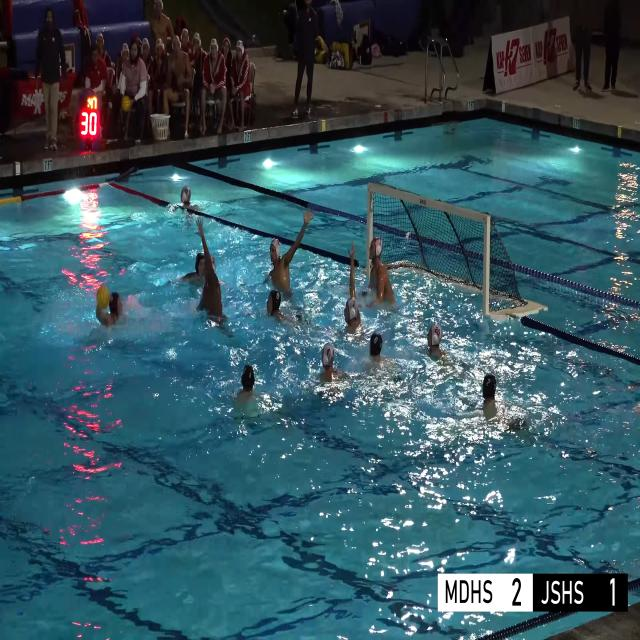ball: (96, 285, 110, 308), (121, 95, 131, 112)
